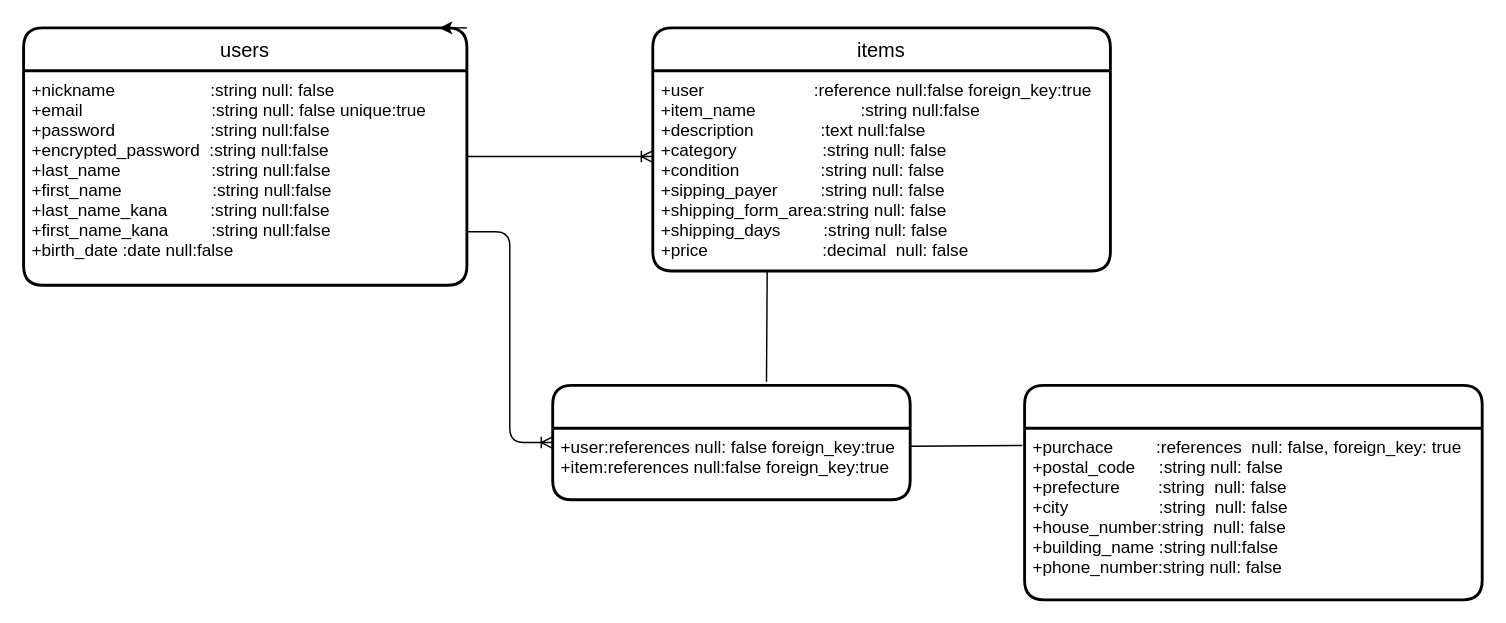
The diagram is 1506 pixels wide and 623 high, and some of its shapes have lost their labels. The box of each missing label's shape, as (x1, y1, x2, y2) in pixels:
addresses: (1022, 383, 1483, 601)
purchases: (551, 383, 911, 500)
